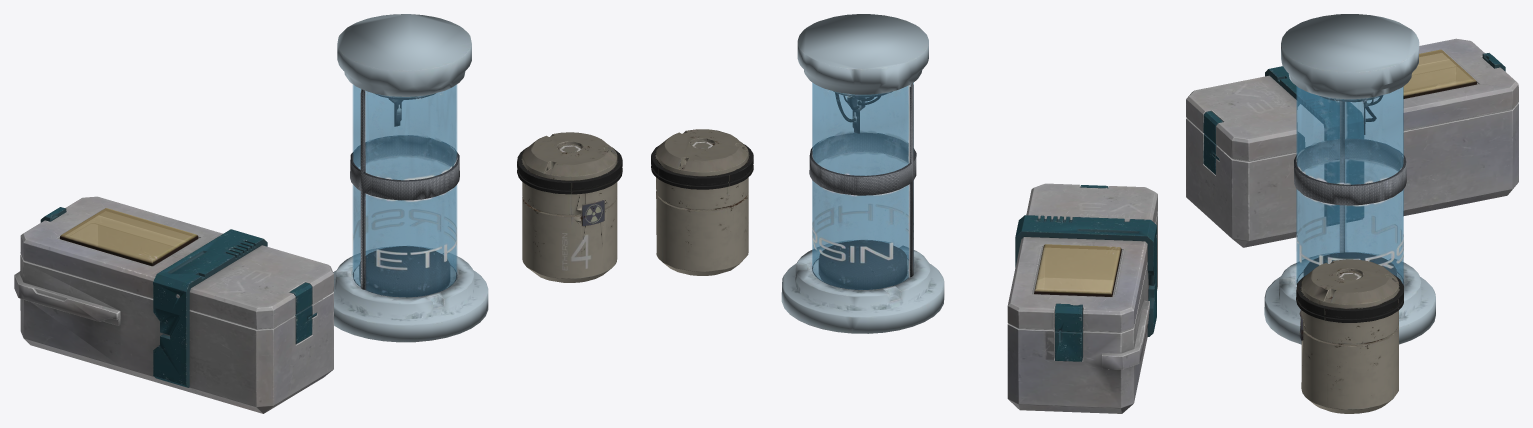
Rendered from containers.glb.
3 views of the same model, side by side, from view 1: azimuth 30°, elevation 25°; view 2: azimuth 150°, elevation 25°; view 3: azimuth 270°, elevation 25° (orthographic). The views are drawn at different scales.
Visible parts, largest first — view 1: coffin01_coffin_main_0, tube01_tube_glass_0, tube01_tube_main_0, barel01_Material_0, tube01_tube_secondary_0, coffin01_coffin_extra_0, coffin01_coffin_glass_0; view 2: coffin01_coffin_main_0, tube01_tube_main_0, tube01_tube_glass_0, barel01_Material_0, tube01_tube_secondary_0, coffin01_coffin_extra_0, coffin01_coffin_glass_0; view 3: coffin01_coffin_main_0, tube01_tube_glass_0, tube01_tube_main_0, barel01_Material_0, tube01_tube_secondary_0, coffin01_coffin_extra_0, coffin01_coffin_glass_0.
Part boxes in pixels (bbox=[...]): coffin01_coffin_main_0: bbox=[14, 196, 333, 413]; tube01_tube_glass_0: bbox=[352, 84, 457, 297]; tube01_tube_main_0: bbox=[333, 14, 488, 342]; barel01_Material_0: bbox=[517, 132, 622, 282]; tube01_tube_secondary_0: bbox=[350, 89, 459, 297]; coffin01_coffin_extra_0: bbox=[40, 207, 316, 387]; coffin01_coffin_glass_0: bbox=[60, 208, 198, 266]; coffin01_coffin_main_0: bbox=[1007, 183, 1157, 413]; tube01_tube_main_0: bbox=[781, 14, 944, 333]; tube01_tube_glass_0: bbox=[812, 82, 913, 289]; barel01_Material_0: bbox=[651, 129, 753, 275]; tube01_tube_secondary_0: bbox=[809, 83, 916, 289]; coffin01_coffin_extra_0: bbox=[1015, 185, 1156, 361]; coffin01_coffin_glass_0: bbox=[1034, 244, 1121, 296]; coffin01_coffin_main_0: bbox=[1186, 38, 1518, 247]; tube01_tube_glass_0: bbox=[1296, 86, 1403, 284]; tube01_tube_main_0: bbox=[1264, 14, 1435, 344]; barel01_Material_0: bbox=[1296, 259, 1403, 413]; tube01_tube_secondary_0: bbox=[1294, 95, 1406, 284]; coffin01_coffin_extra_0: bbox=[1203, 53, 1505, 225]; coffin01_coffin_glass_0: bbox=[1403, 49, 1477, 98].
Size of the model in its own units: 9.67 by 4.49 by 4.98.
Materials: 9 (7 with a texture image).
